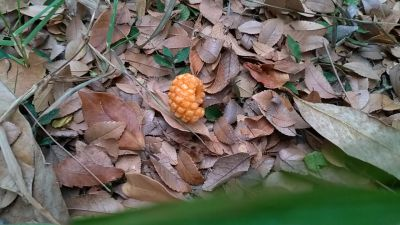eggs: (165, 73, 210, 124)
